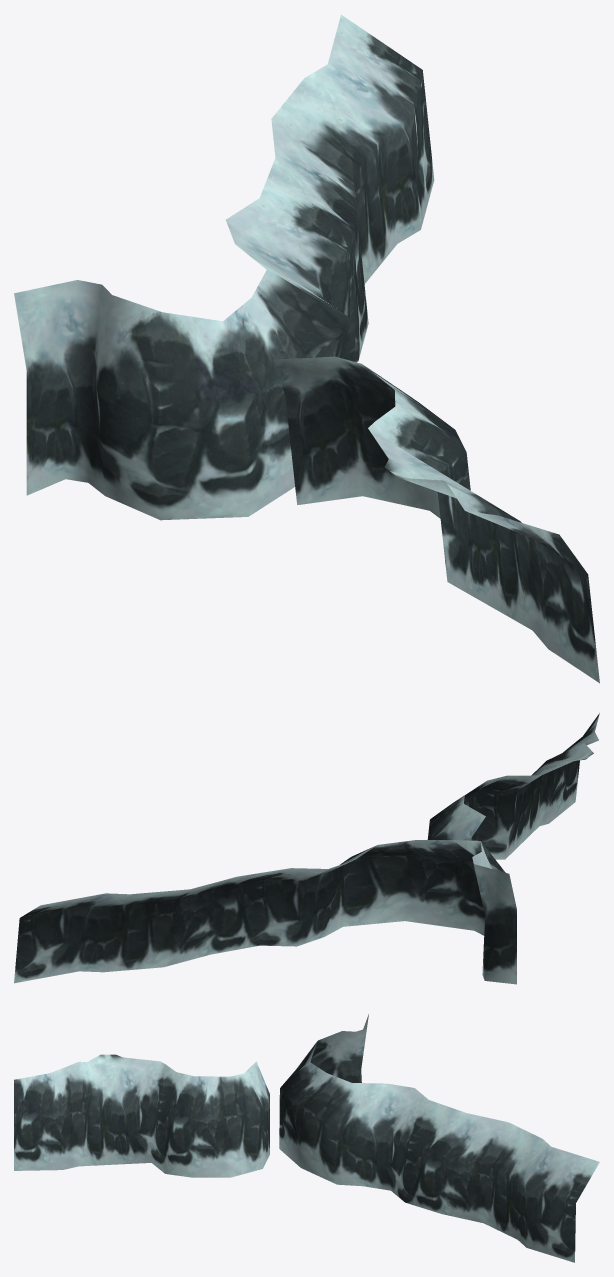
File: dimian_section05_guanka01_02.FBX
3 renders of one model, top to bottom at view 1: azimuth 30°, elevation 25°; view 2: azimuth 150°, elevation 25°; view 3: azimuth 270°, elevation 25°, orthographic. The views are drawn at different scales.
Visible parts, largest first — view 1: dimian_section05_guanka01_02; view 2: dimian_section05_guanka01_02; view 3: dimian_section05_guanka01_02.
Boxes of the visible parts, box(x1,y1,x2,y2) form: dimian_section05_guanka01_02: box(14, 14, 599, 683); dimian_section05_guanka01_02: box(14, 713, 599, 984); dimian_section05_guanka01_02: box(14, 1014, 599, 1262).
Size of the model in its own units: 93.62 by 150 by 28.02.
